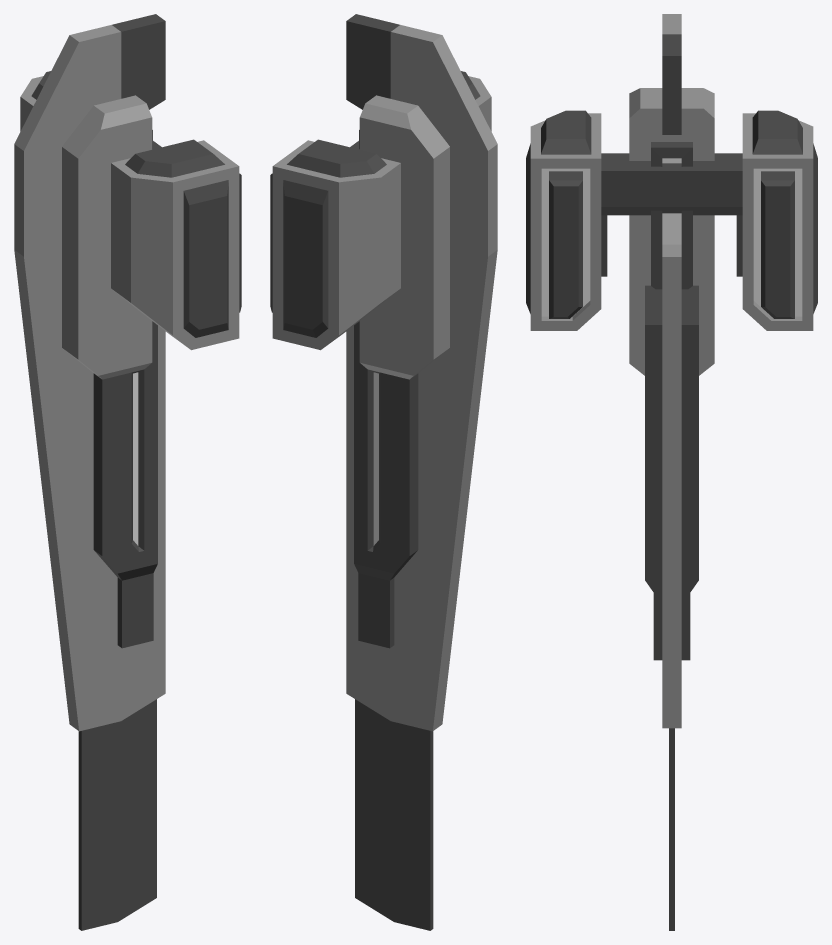
Rendered from Artifact_2.fbx.
The picture shows the model from 3 angles, left to right: view 1: azimuth 30°, elevation 25°; view 2: azimuth 150°, elevation 25°; view 3: azimuth 270°, elevation 25°; orthographic projection.
Visible parts, largest first — view 1: Cube.001; view 2: Cube.001; view 3: Cube.001.
Part boxes in pixels (x1,y1,x2,y2): Cube.001: (14,14,241,930); Cube.001: (270,14,497,930); Cube.001: (526,14,817,930).
Bounding box in the file's own units: 134 × 701 × 208.
